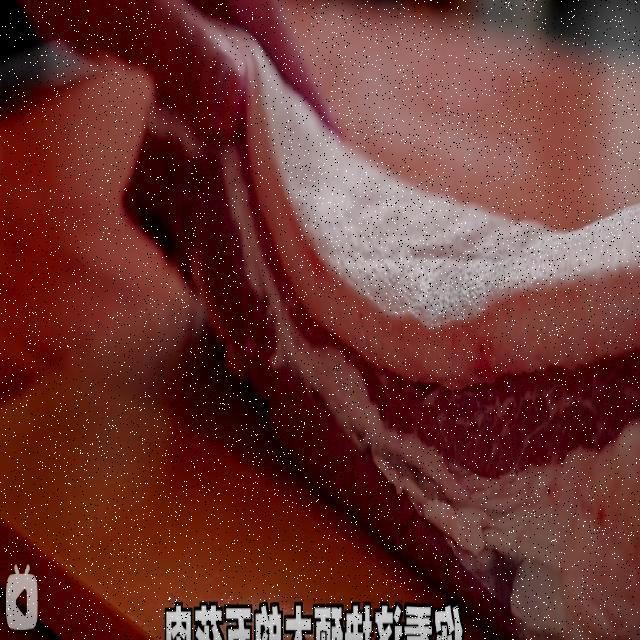pork: (185, 183, 640, 602)
